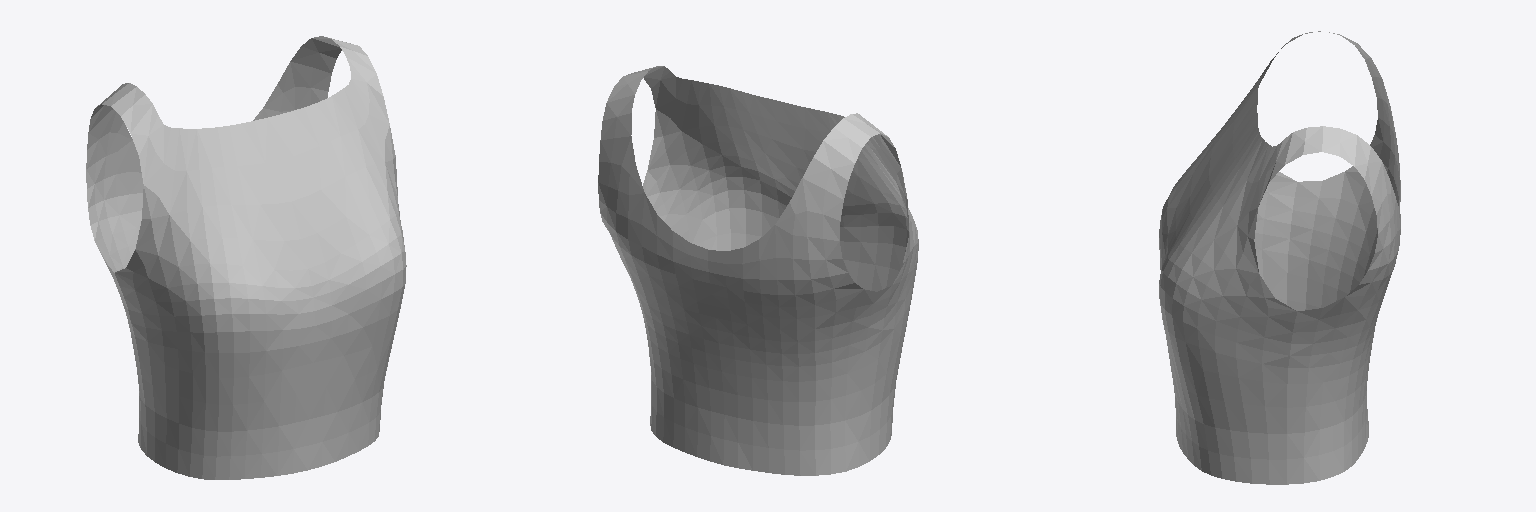
File: 2_bodiceboat.obj
The picture shows the model from 3 angles: view 1: azimuth 30°, elevation 25°; view 2: azimuth 150°, elevation 25°; view 3: azimuth 270°, elevation 25°; orthographic projection.
Parts seen in each view (by area): view 1: bodicefrontleft, bodicefrontright, bodicebackleft, object_7, bodicebackright, bodiceback; view 2: bodiceback, bodicebackleft, bodicefrontleft, object_7, bodicefrontright, bodicebackright; view 3: object_7, bodicebackright, bodicebackleft, bodicefrontleft, bodicefrontright, bodiceback.
Part boxes in pixels (x1,y1,x2,y2): bodicefrontleft: (111,87,314,479); bodicefrontright: (268,96,403,469); bodicebackleft: (86,83,146,455); object_7: (332,39,406,440); bodicebackright: (263,36,350,117); bodiceback: (130,109,263,233); bodiceback: (642,194,784,474); bodicebackleft: (775,118,891,475); bodicefrontleft: (779,101,918,460); object_7: (626,66,730,250); bodicefrontright: (709,84,808,249); bodicebackright: (598,71,673,446); object_7: (1172,126,1322,484); bodicebackright: (1287,126,1397,484); bodicebackleft: (1287,32,1397,310); bodicefrontleft: (1159,31,1320,304); bodicefrontright: (1159,111,1262,470); bodiceback: (1358,138,1400,458).
Bounding box in the file's own units: 11.63 × 14.82 × 9.16.